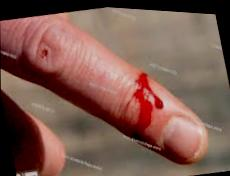Fire: (131, 71, 163, 134)
